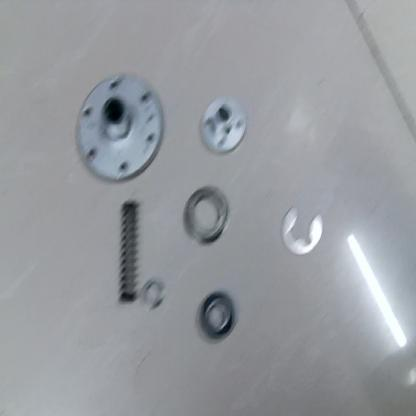FOD: (68, 62, 163, 184), (199, 91, 248, 157), (182, 188, 232, 245), (279, 204, 327, 255), (118, 197, 139, 301), (197, 290, 236, 341), (140, 277, 164, 307)
